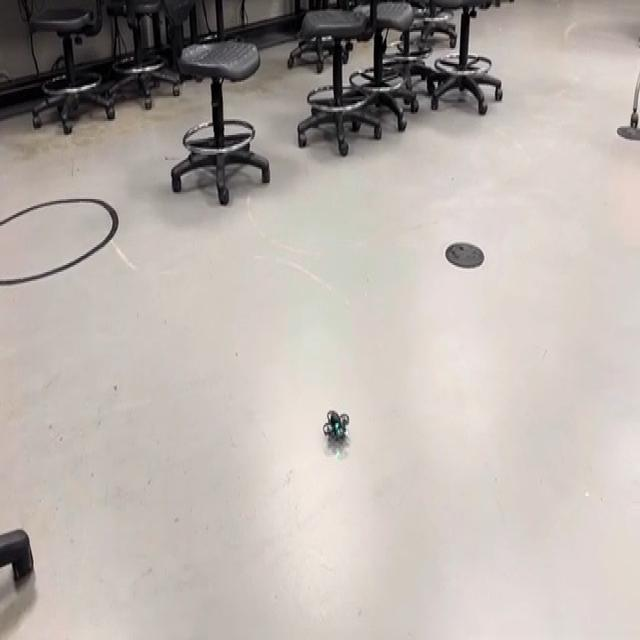drone: (316, 394, 356, 456)
